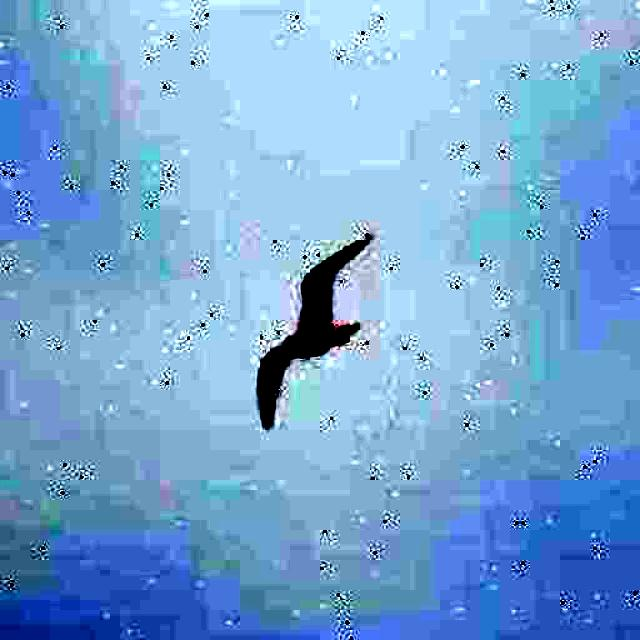airplane: (245, 231, 388, 431)
